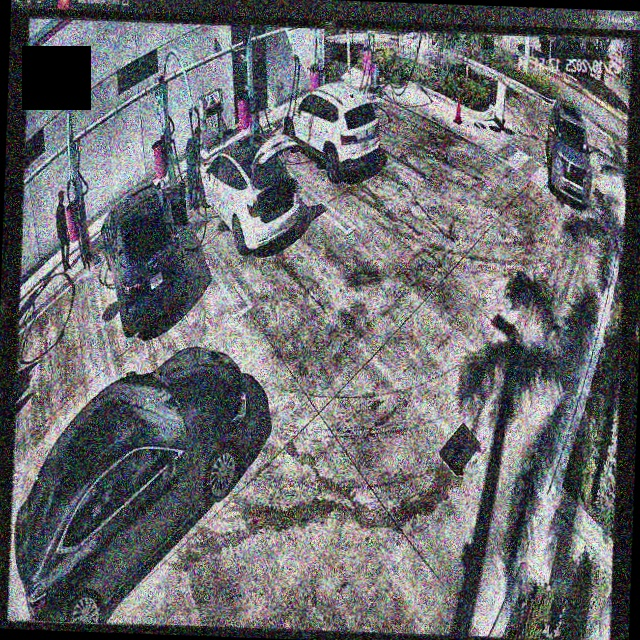Car: (11, 340, 252, 630), (97, 182, 186, 336), (194, 130, 305, 253), (279, 77, 380, 184)
